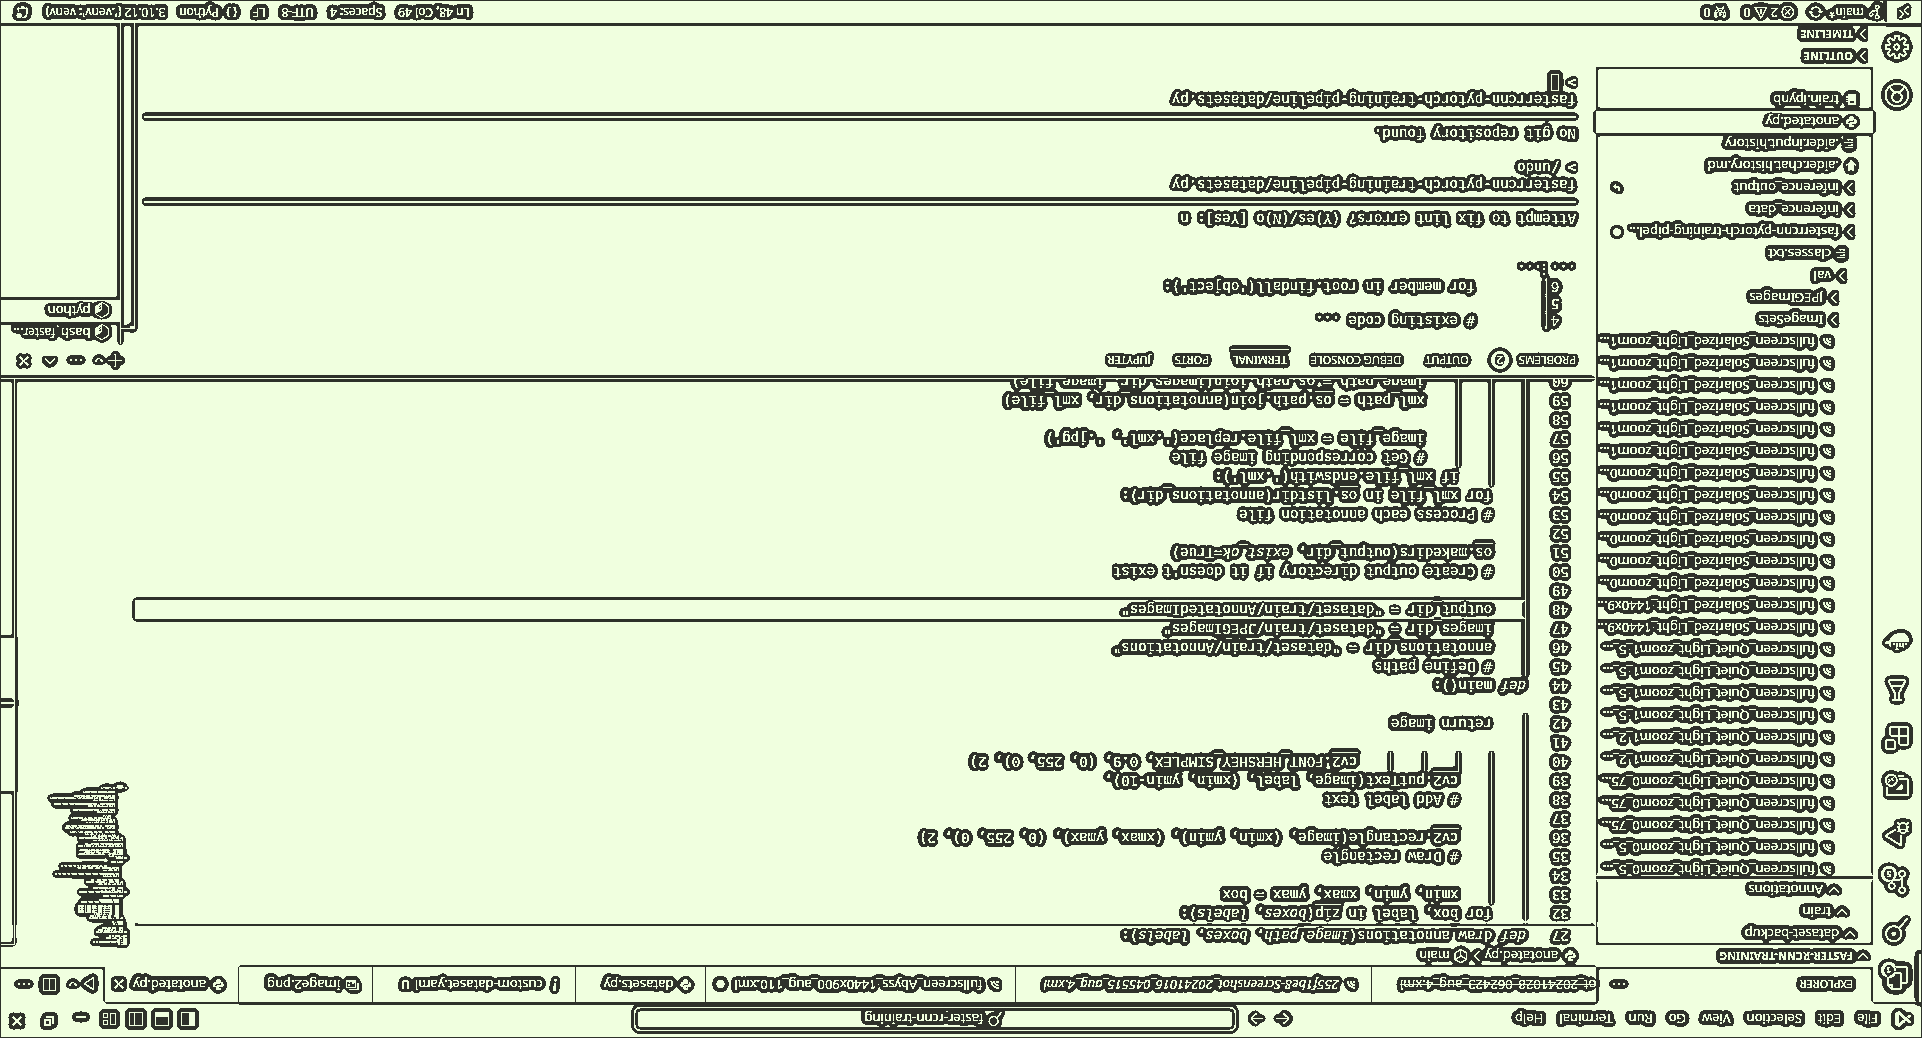Accounts: (1882, 78, 1916, 112)
Activity Bar: (1873, 26, 1922, 1005)
Close: (3, 1011, 36, 1032)
Editor: (13, 377, 1597, 1003)
Explorer: (1877, 959, 1916, 998)
Extensions: (1882, 724, 1918, 757)
Manage: (1884, 32, 1912, 65)
Maximize: (36, 1010, 66, 1037)
Minimize: (65, 1009, 93, 1035)
Panel: (3, 23, 1596, 381)
Primary Side Bar: (1594, 22, 1876, 1003)
Run and Debug: (1881, 816, 1918, 851)
Search: (1882, 914, 1913, 954)
Search Bar: (634, 1005, 1241, 1032)
Source Control: (1879, 862, 1918, 905)
Status Bar: (3, 3, 1921, 26)
Testing: (1882, 669, 1913, 715)
Top Bar: (3, 1001, 1919, 1035)
